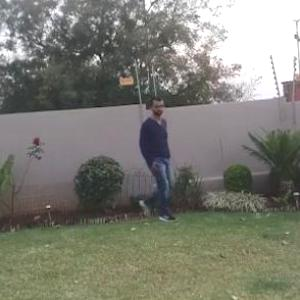follow: (128, 92, 176, 226)
